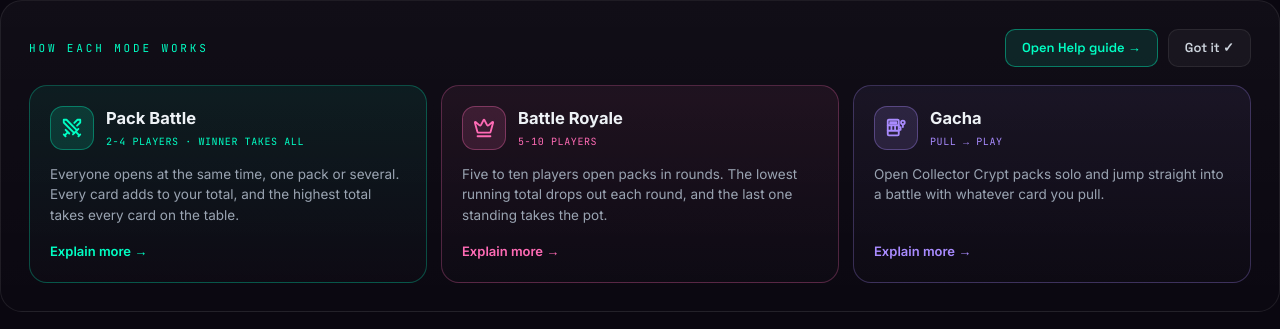
Test: ModeGuide › shows the three modes and collapses (persisting the state)
Check: the text "Pack Battle" is shown, box left=106, top=108, right=196, bottom=128
Check: the text "Battle Royale" is shown, box left=518, top=106, right=623, bottom=131
Click the button "Got it ✓". click: {"x": 1209, "y": 48}
box: left=1168, top=29, right=1251, bottom=66
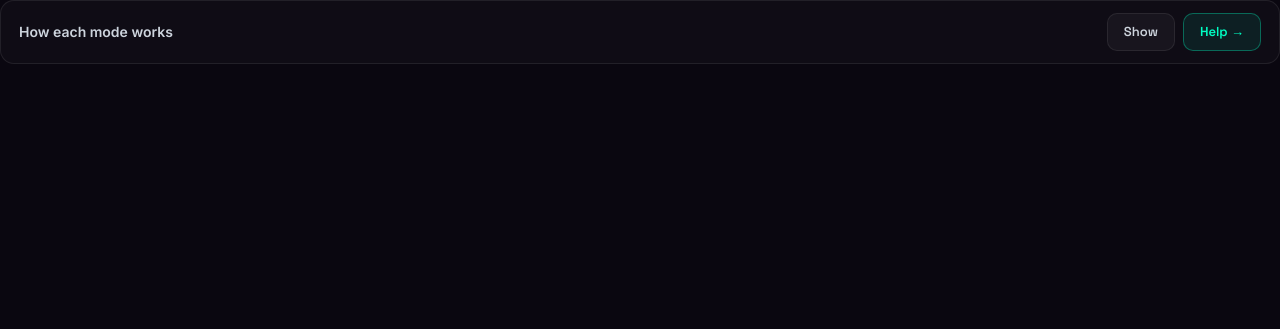
Check: the text "Pack Battle" is gone
